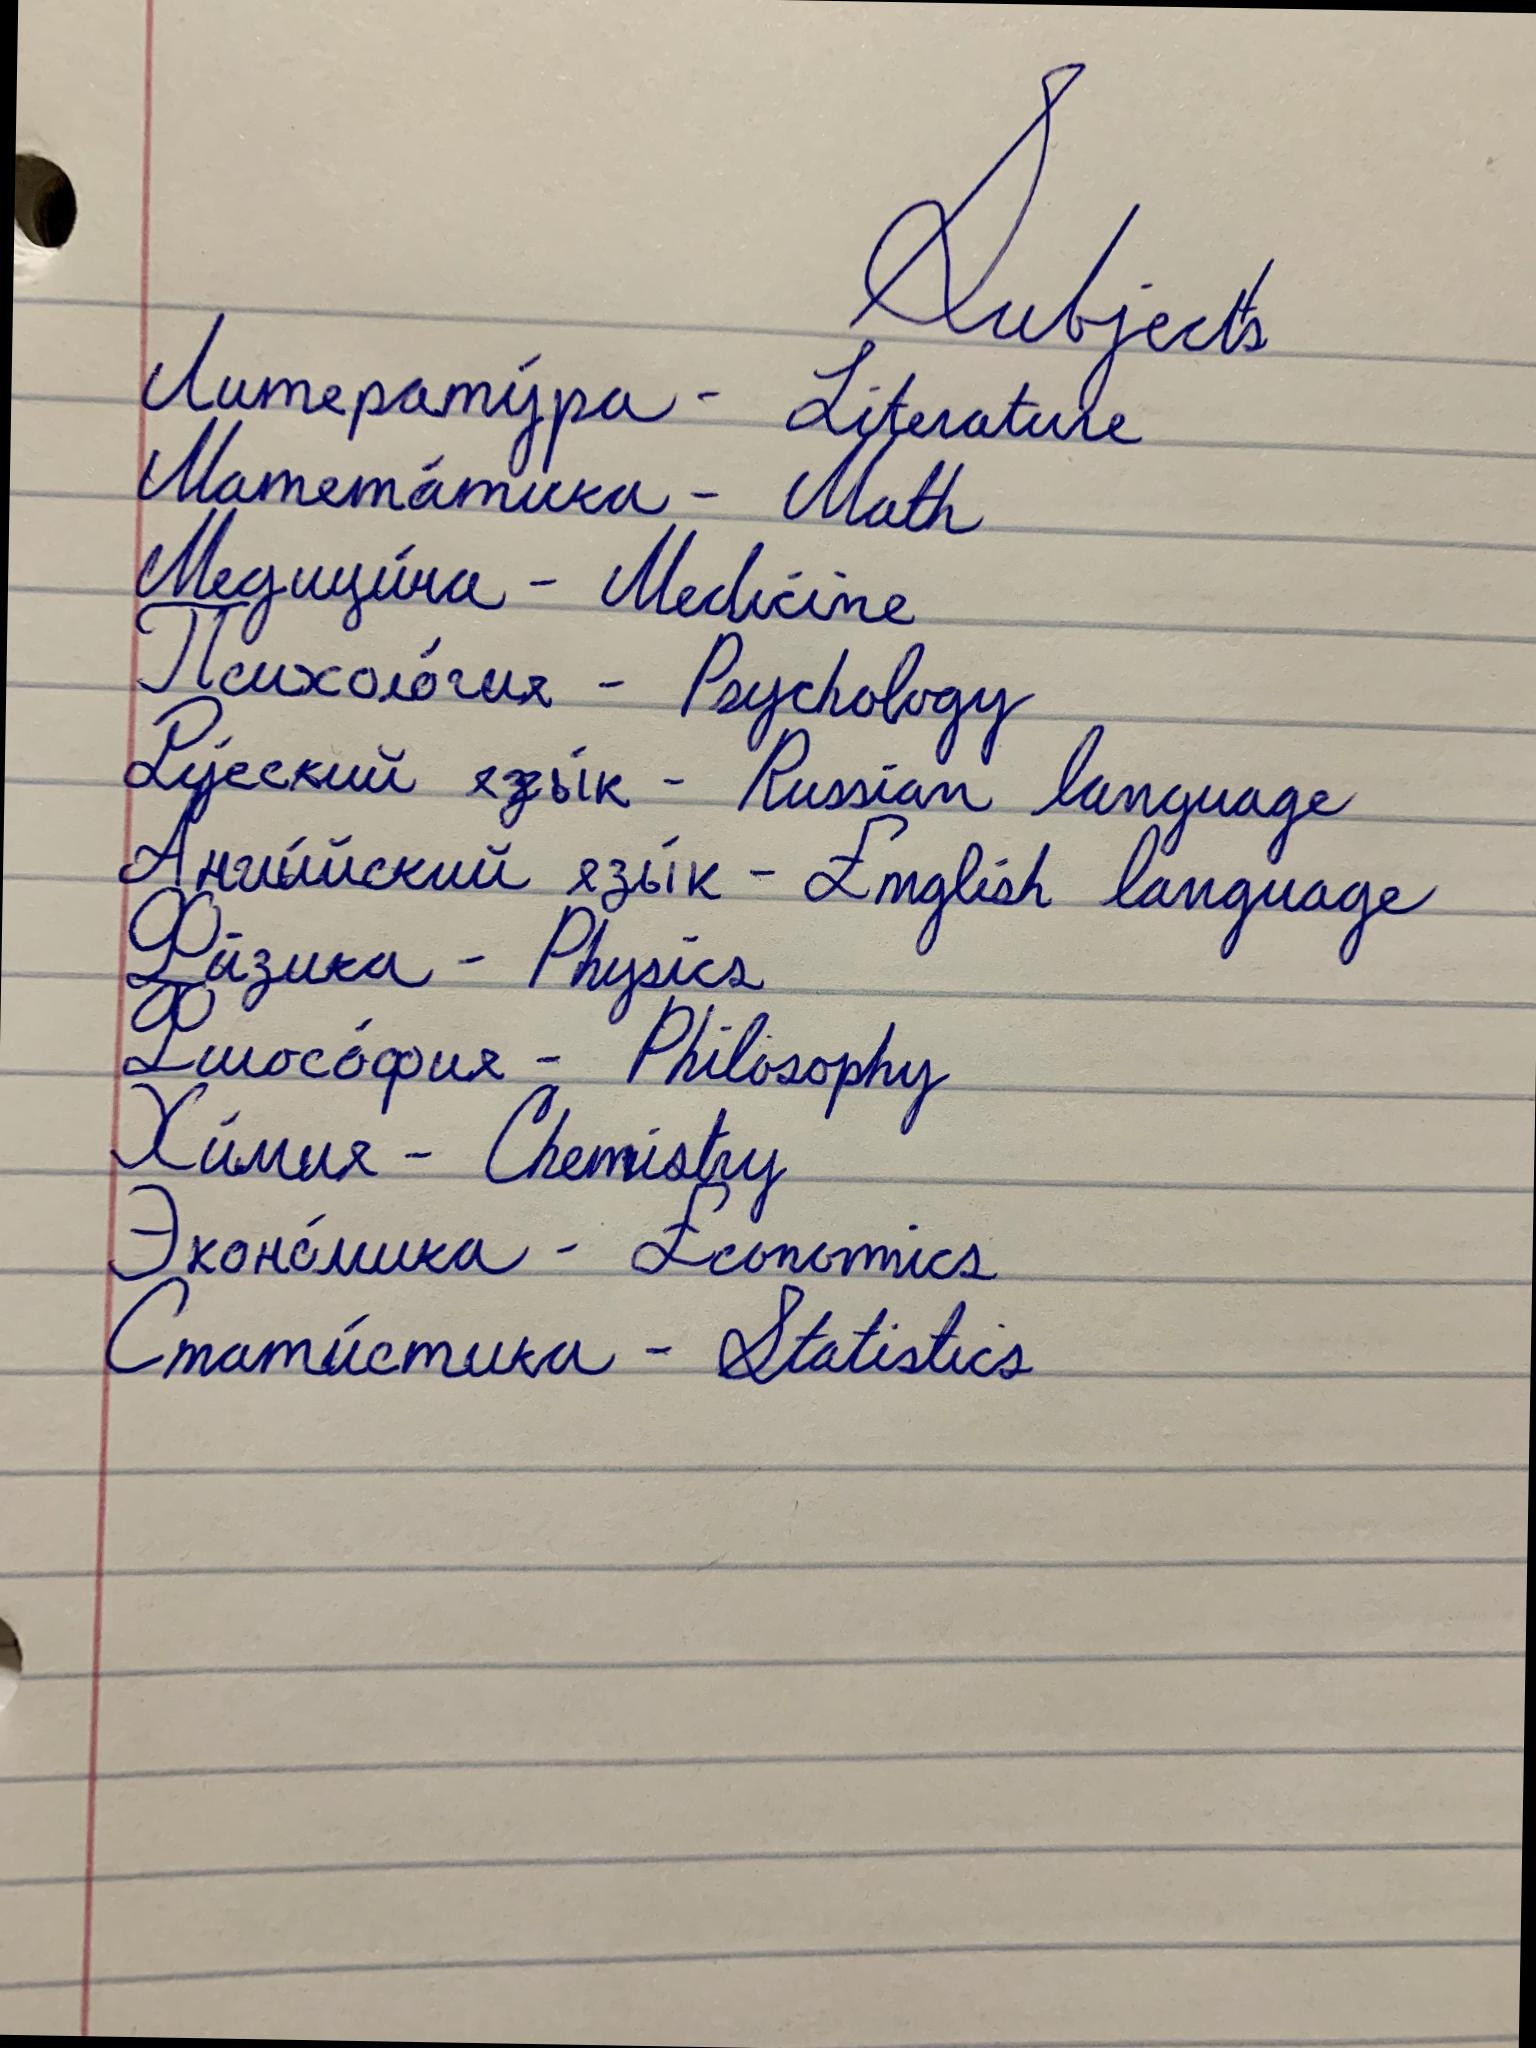text: (110, 797, 1441, 971), (124, 690, 1375, 869), (134, 314, 1147, 497), (119, 593, 1041, 776), (837, 50, 1288, 421), (111, 977, 958, 1142), (103, 1163, 1008, 1306), (97, 1269, 1042, 1405), (126, 505, 925, 663), (105, 1071, 802, 1235), (131, 411, 987, 540), (119, 880, 768, 1030)
